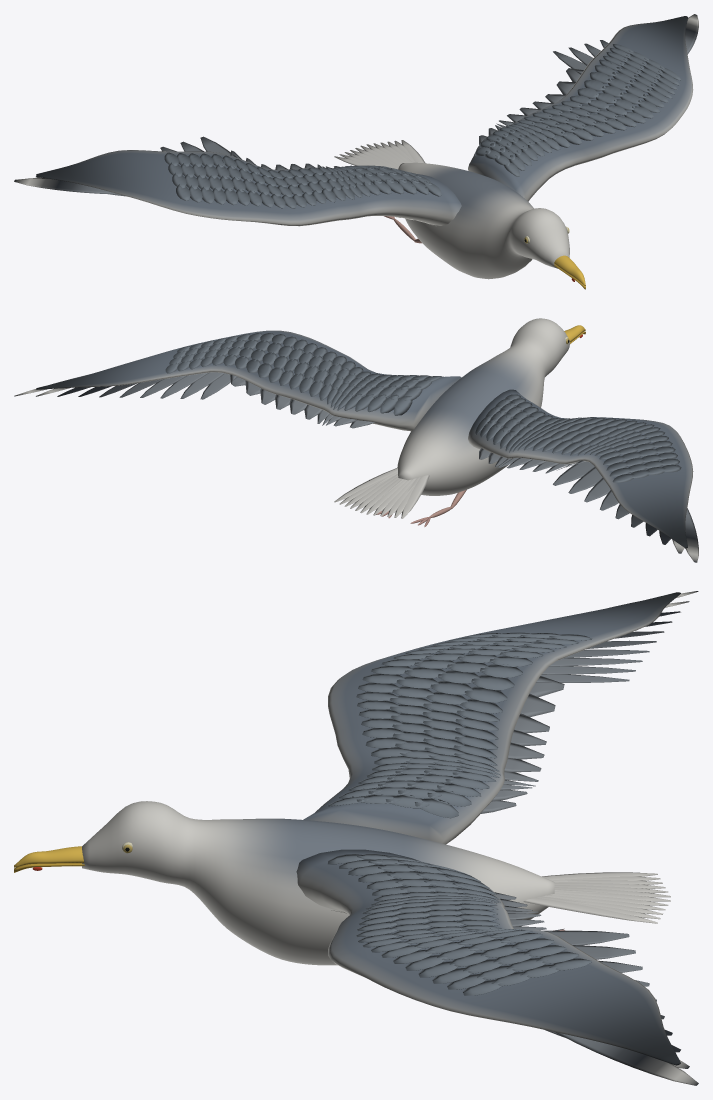
The model's file is gull.glb.
The picture shows the model from 3 angles, top to bottom: view 1: azimuth 30°, elevation 25°; view 2: azimuth 150°, elevation 25°; view 3: azimuth 270°, elevation 25°; orthographic projection. The views are drawn at different scales.
Parts seen in each view (by area): view 1: Gull; view 2: Gull; view 3: Gull.
Boxes of the visible parts, x1,y1,x2,y2 form: Gull: [14, 14, 698, 289]; Gull: [14, 318, 698, 562]; Gull: [14, 591, 698, 1085].
Size of the model in its own units: 1.29 by 0.2023 by 0.7569.
